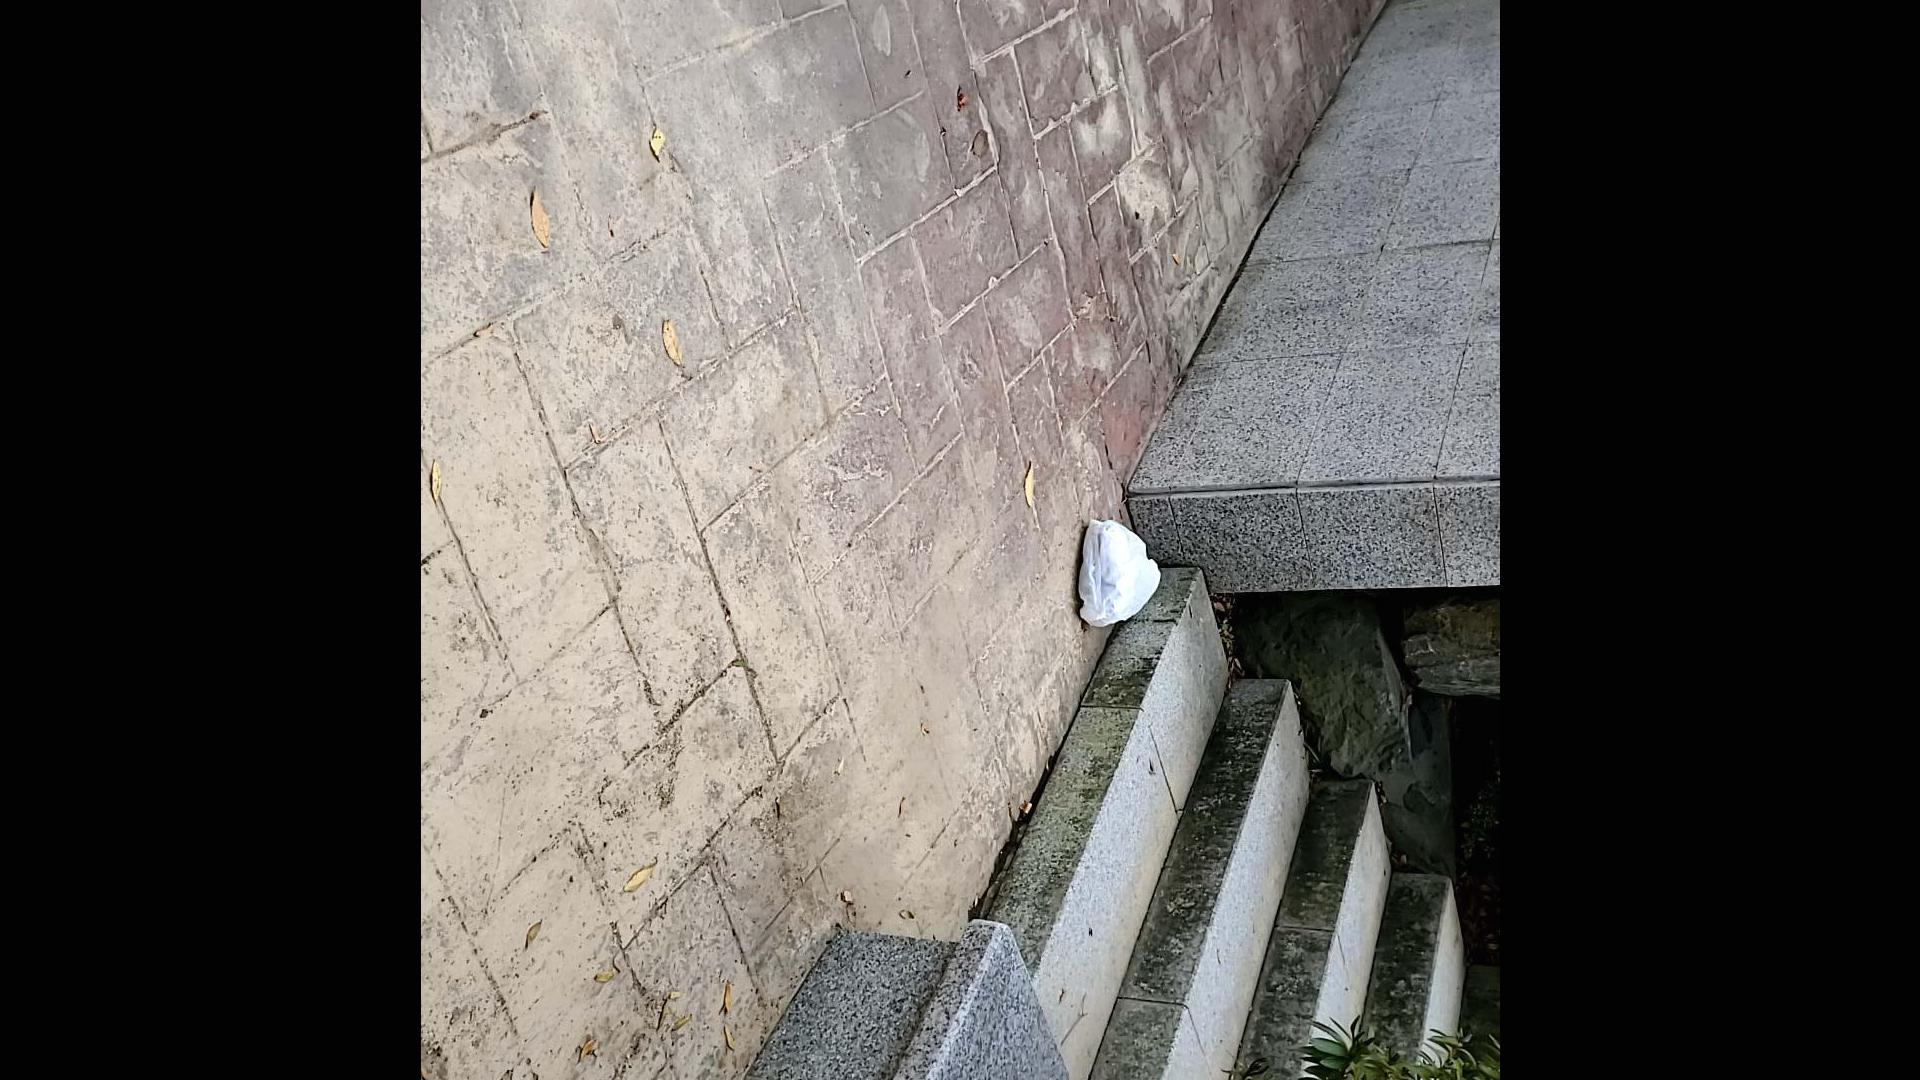white_bag: (1062, 502, 1166, 640)
